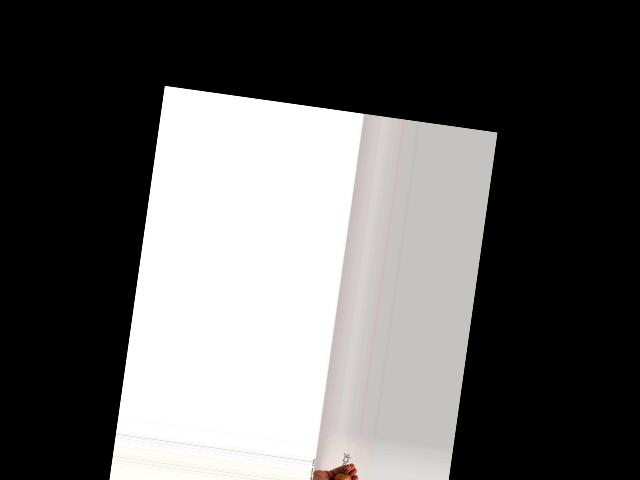egg: (331, 471, 351, 480)
